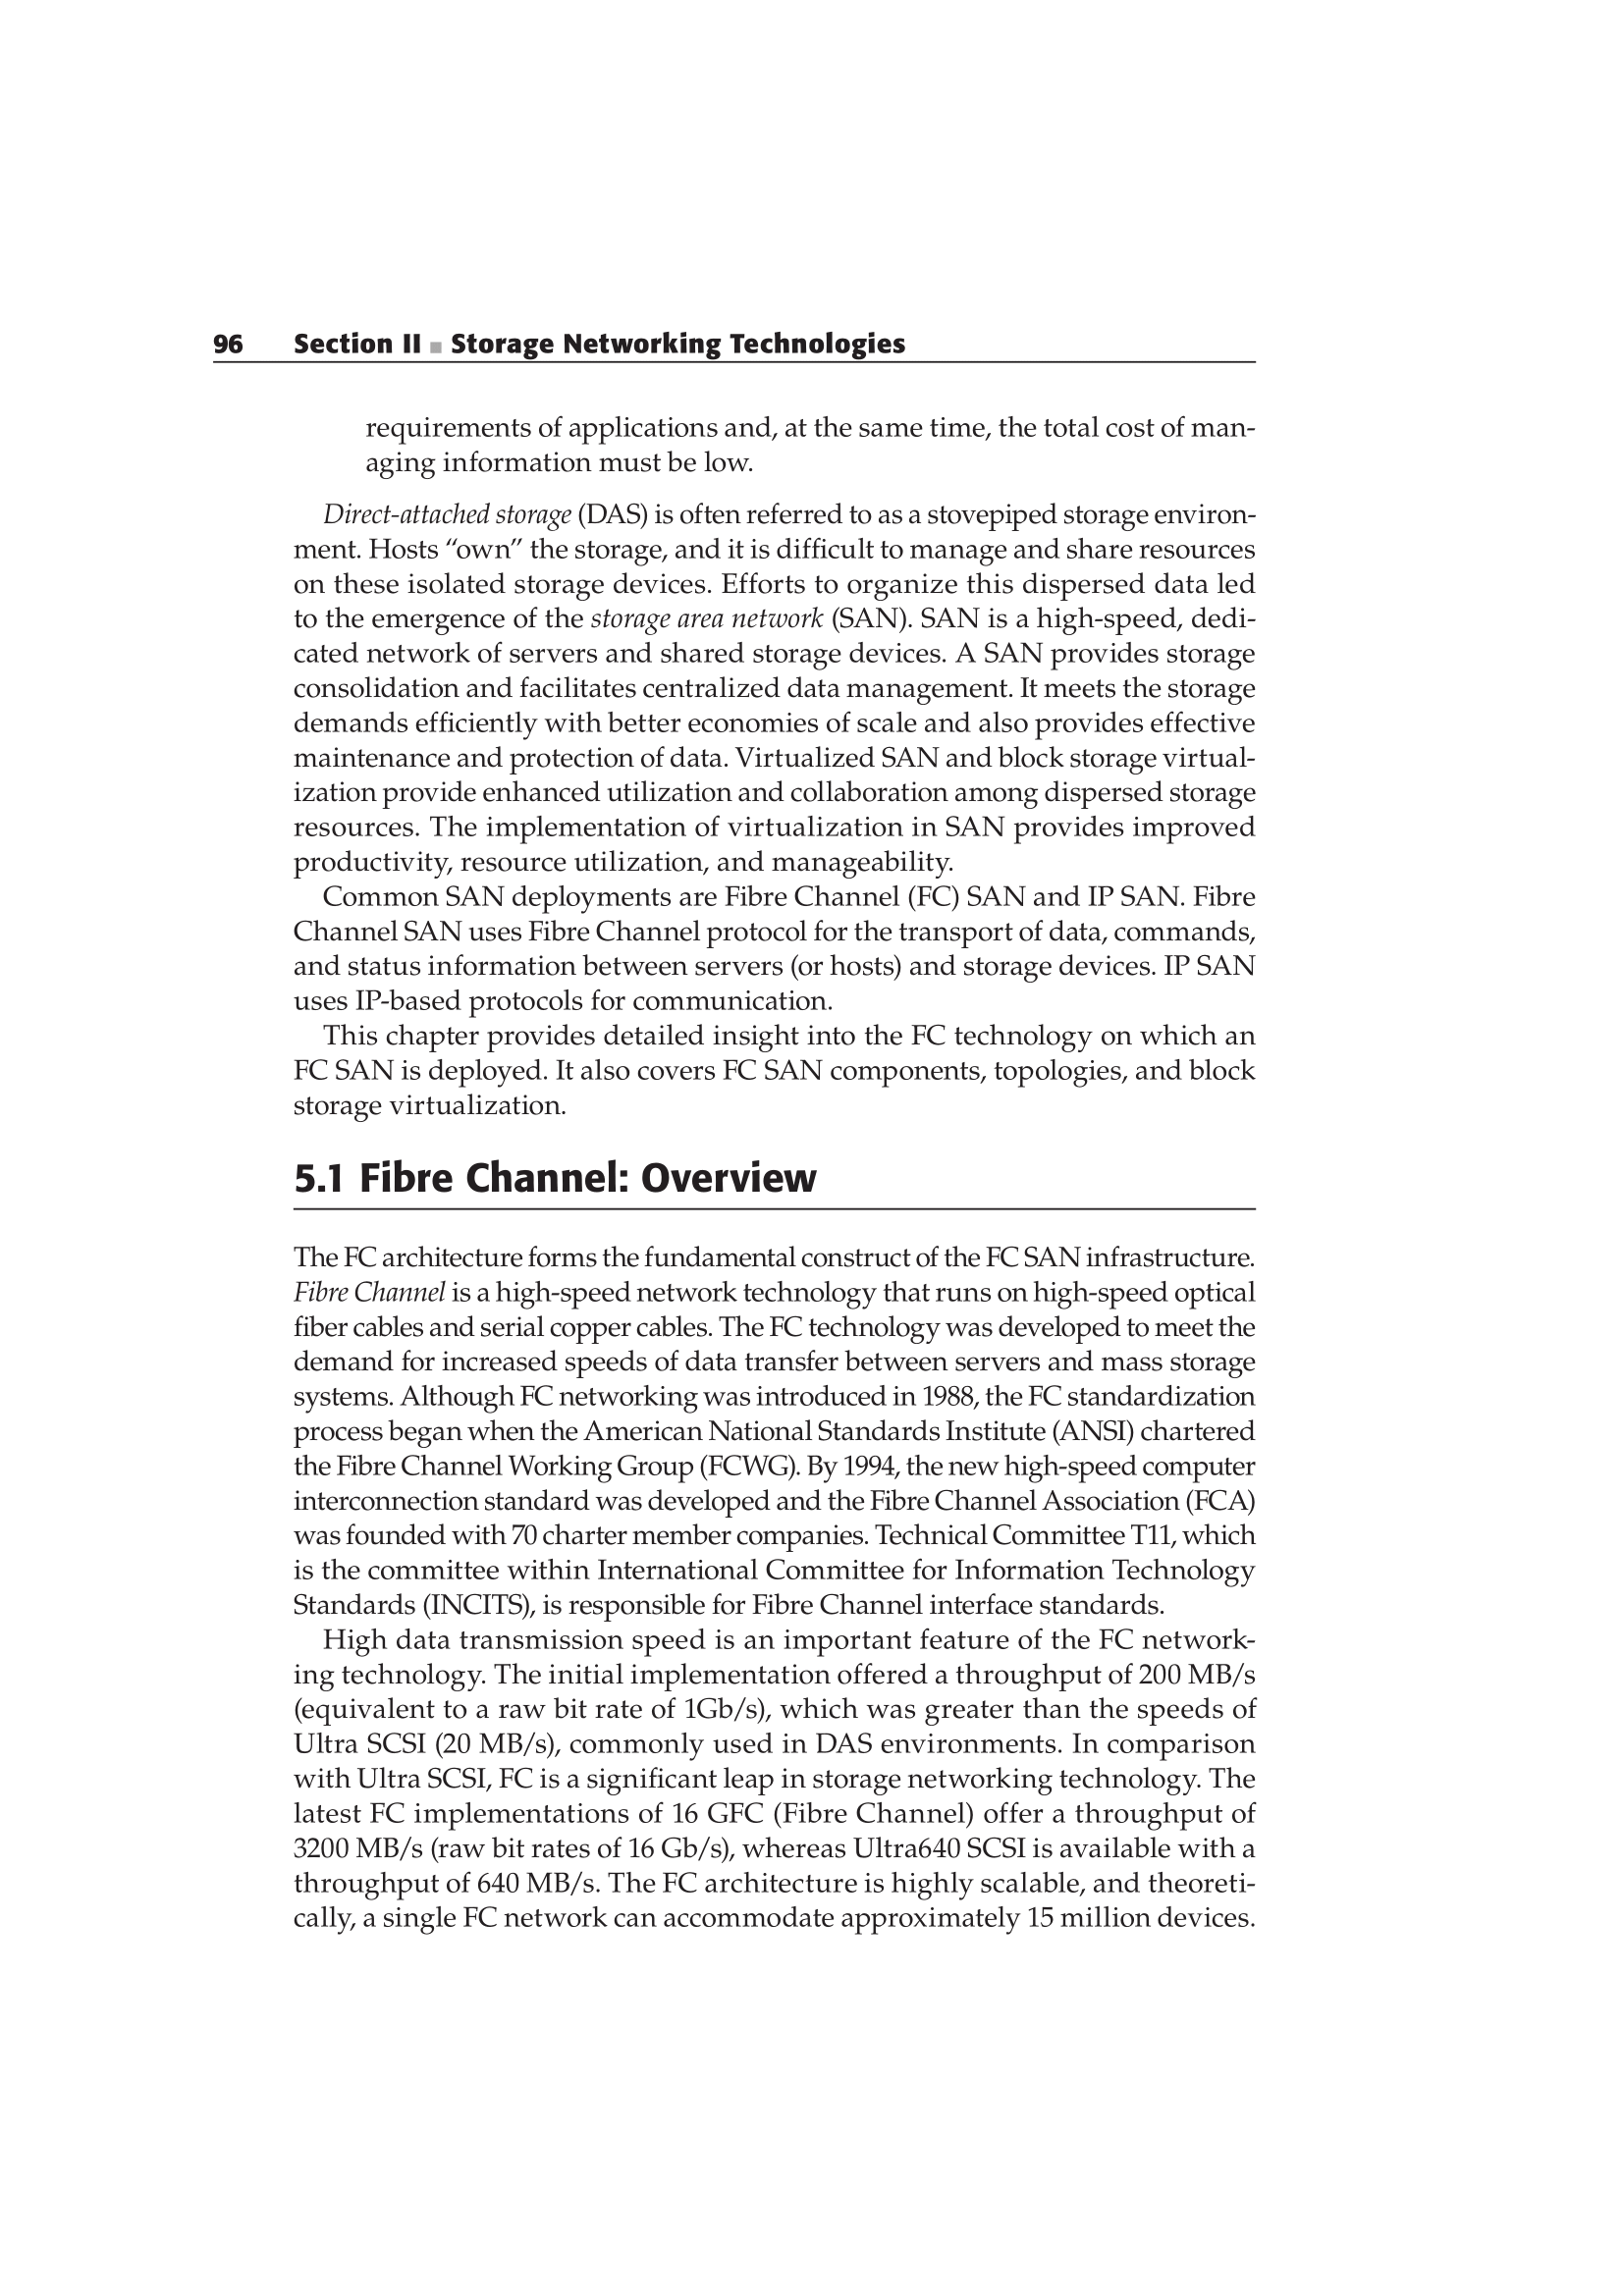Paragraph: (234, 486, 1363, 881), (214, 1215, 1344, 1580), (255, 1585, 1291, 1966), (262, 883, 1284, 1157), (341, 405, 1335, 481), (283, 314, 933, 390), (230, 1160, 906, 1195)
